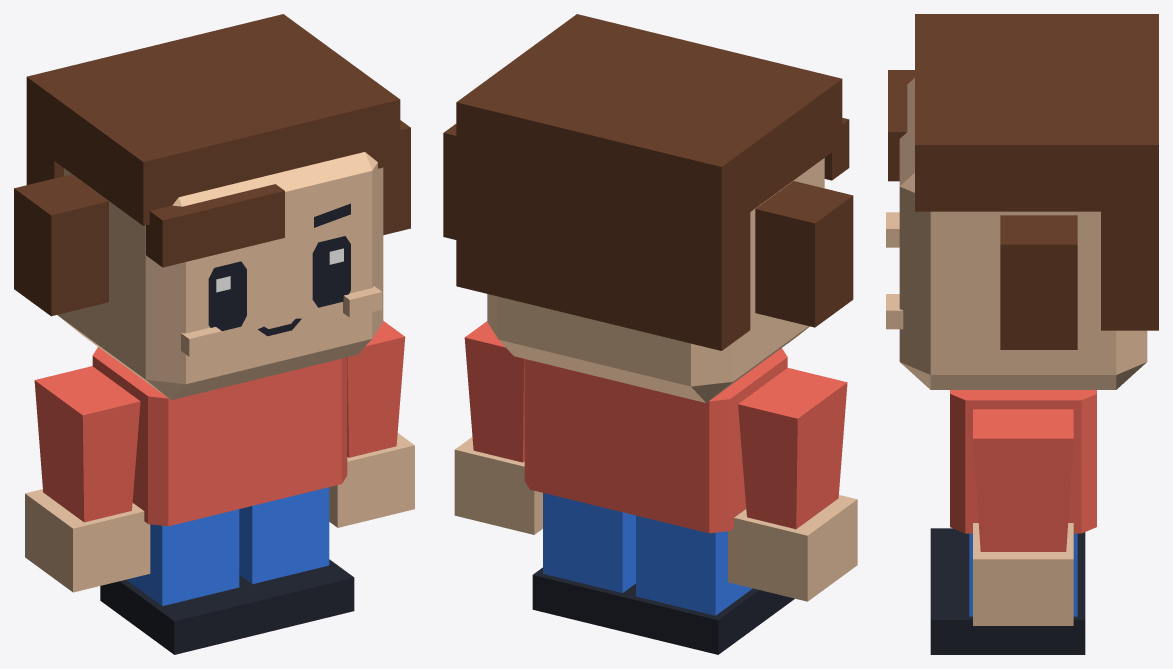
Rendered from townsperson-child.glb.
3 renders of one model, left to right at view 1: azimuth 30°, elevation 25°; view 2: azimuth 150°, elevation 25°; view 3: azimuth 270°, elevation 25°, orthographic. The views are drawn at different scales.
Parts seen in each view (by area): view 1: hair, head, body, arm_R, hand_R, face, leg_R, shoe_R, leg_L, arm_L, hand_L, shoe_L; view 2: hair, body, head, arm_R, hand_R, leg_R, leg_L, arm_L, shoe_R, hand_L, shoe_L; view 3: hair, head, arm_L, body, hand_L, shoe_L, shoe_R, face, leg_L.
Boxes of the visible parts, x1,y1,x2,y2 form: hair: (14, 14, 410, 316); head: (57, 152, 383, 400); body: (92, 347, 347, 526); arm_R: (34, 366, 140, 522); hand_R: (25, 489, 150, 592); face: (181, 203, 382, 356); leg_R: (126, 509, 239, 605); shoe_R: (100, 579, 264, 654); leg_L: (239, 487, 329, 584); arm_L: (347, 321, 405, 457); hand_L: (329, 433, 414, 527); shoe_L: (239, 559, 354, 632); hair: (443, 14, 853, 350); body: (524, 348, 787, 533); head: (487, 158, 824, 402); arm_R: (738, 368, 847, 529); hand_R: (728, 495, 857, 601); leg_R: (636, 515, 752, 615); leg_L: (543, 493, 635, 592); arm_L: (464, 321, 524, 462); shoe_R: (625, 588, 794, 654); hand_L: (454, 437, 542, 534); shoe_L: (532, 567, 635, 631); hair: (888, 14, 1158, 349); head: (899, 78, 1147, 389); arm_L: (973, 409, 1073, 551); body: (950, 390, 1096, 533); hand_L: (973, 523, 1073, 625); shoe_L: (930, 574, 1085, 654); shoe_R: (930, 528, 1085, 573); face: (886, 212, 903, 329); leg_L: (969, 533, 1077, 616).
Size of the model in its own units: 1.12 by 1.51 by 0.705.
